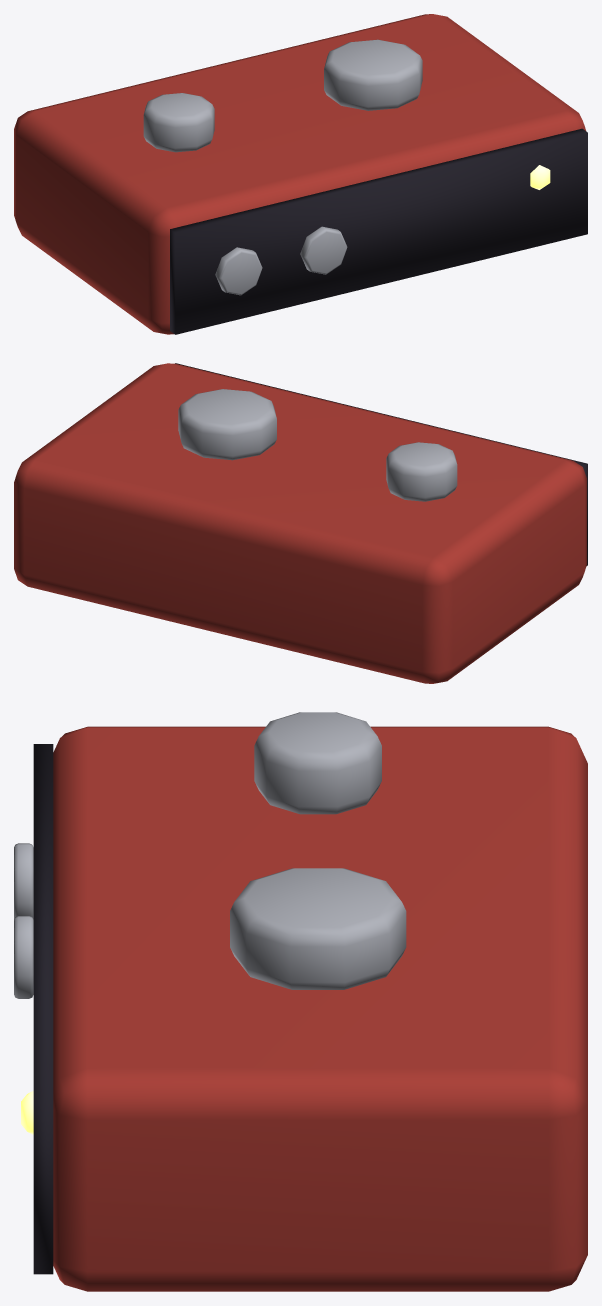
The model's file is audio_interface.glb.
3 renders of one model, top to bottom at view 1: azimuth 30°, elevation 25°; view 2: azimuth 150°, elevation 25°; view 3: azimuth 270°, elevation 25°, orthographic. The views are drawn at different scales.
Parts seen in each view (by area): view 1: audio_interface; view 2: audio_interface; view 3: audio_interface.
Boxes of the visible parts, x1,y1,x2,y2 form: audio_interface: [14, 14, 587, 334]; audio_interface: [14, 363, 587, 683]; audio_interface: [14, 712, 587, 1291].
Size of the model in its own units: 0.18 by 0.064 by 0.117.
